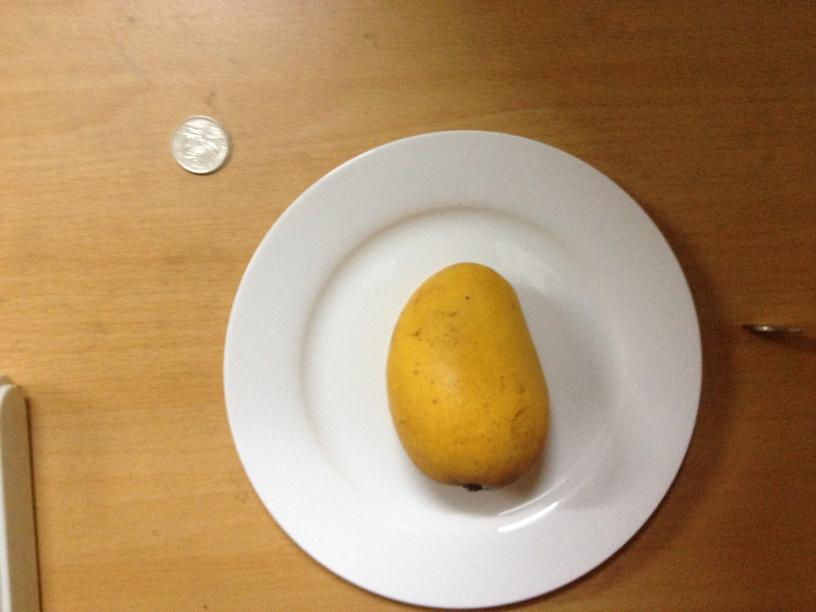coin: (171, 117, 229, 172)
mango: (385, 261, 551, 488)
